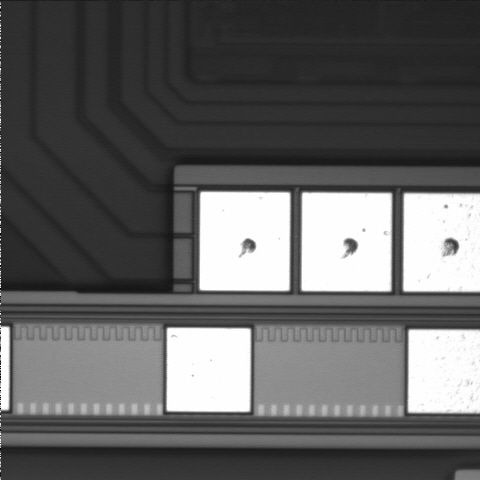pad: (200, 192, 290, 291), (302, 193, 392, 291), (167, 328, 251, 412)
